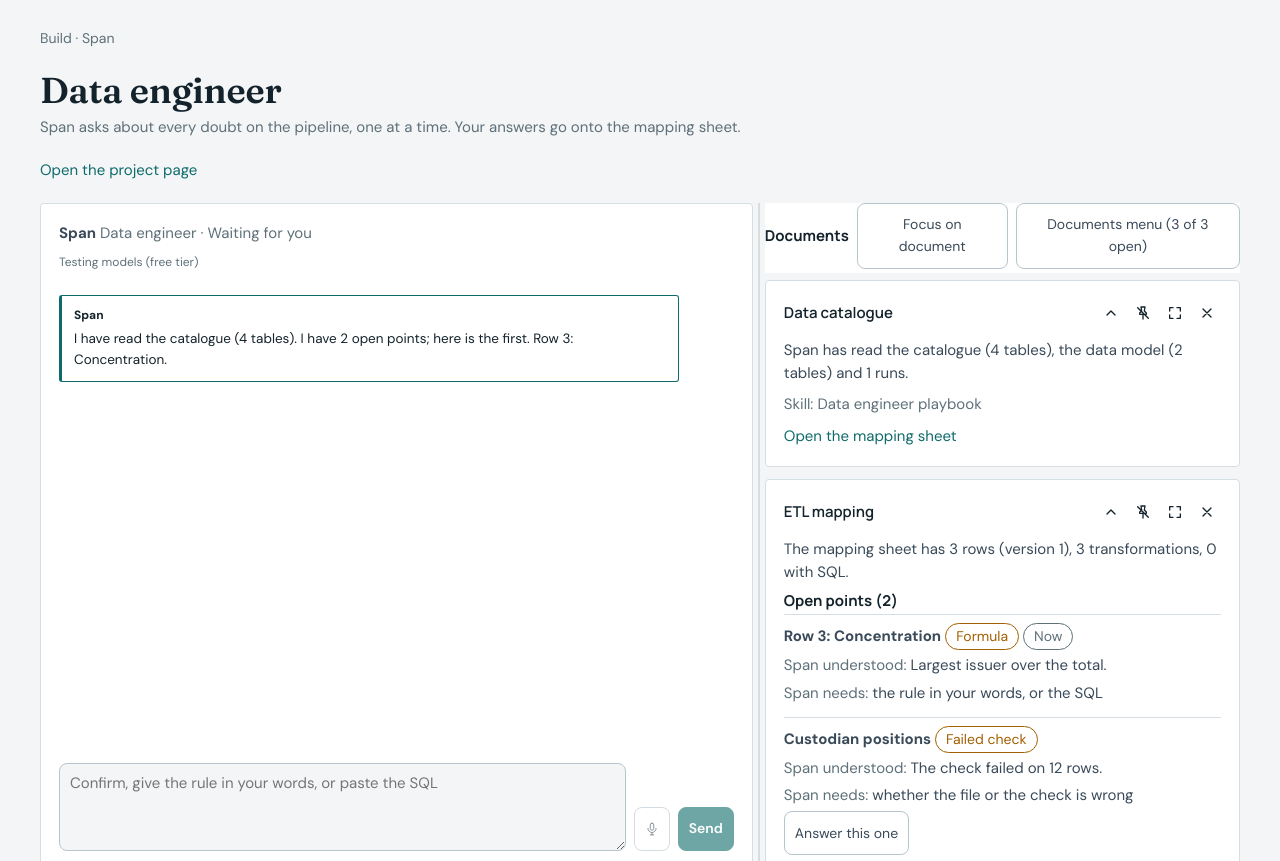
Scenario: Flow opens with the first point, lists the open points and walks to the next on an answer
Check: the text "I have 2 open points" is shown, box [74, 330, 573, 368]
Check: the element named "Open point: Concentration" shows "Largest issuer over the total.", box [910, 655, 1107, 675]
Type "Confirmed" into the text box named "Your message" at {"x": 342, "y": 807}, box [59, 763, 626, 851]
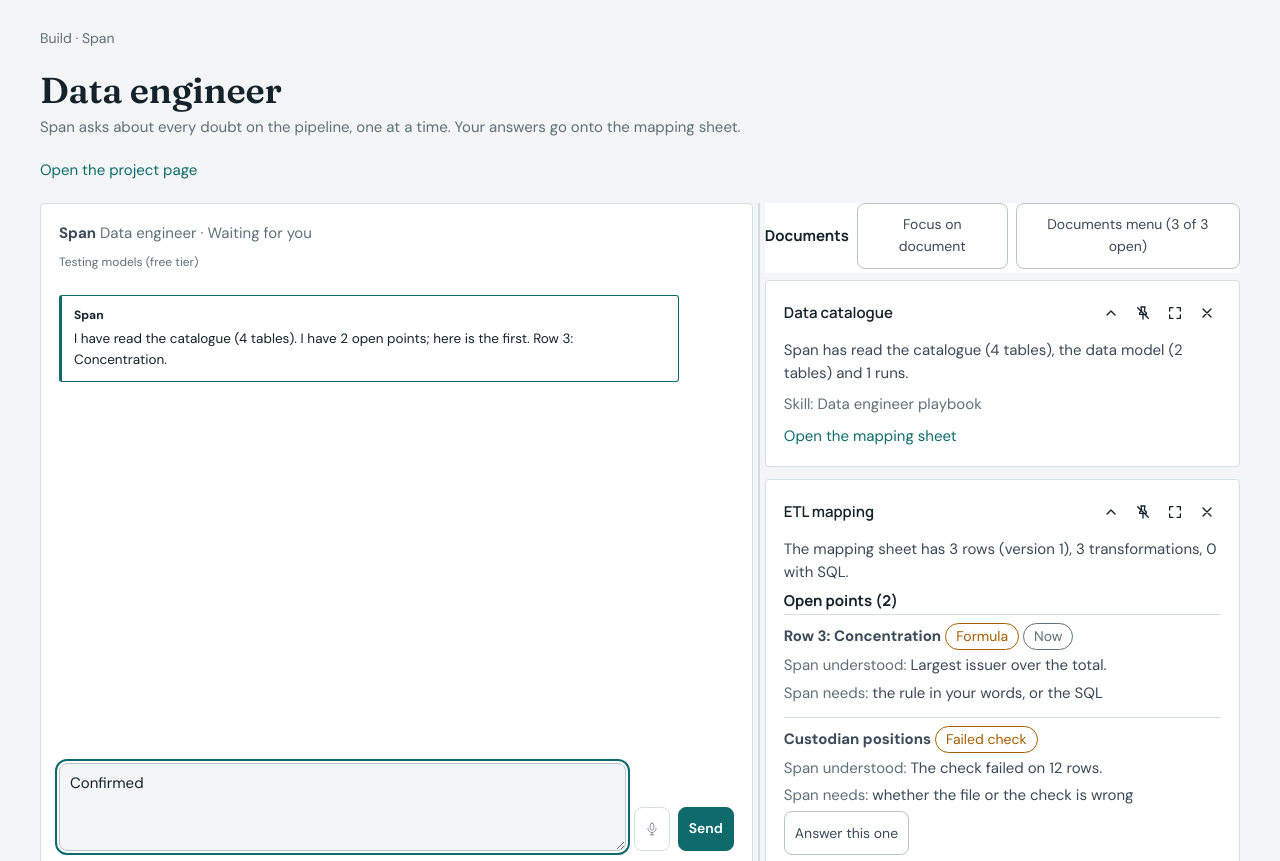
Click the button "Send" at {"x": 706, "y": 829}, box [678, 807, 734, 851]
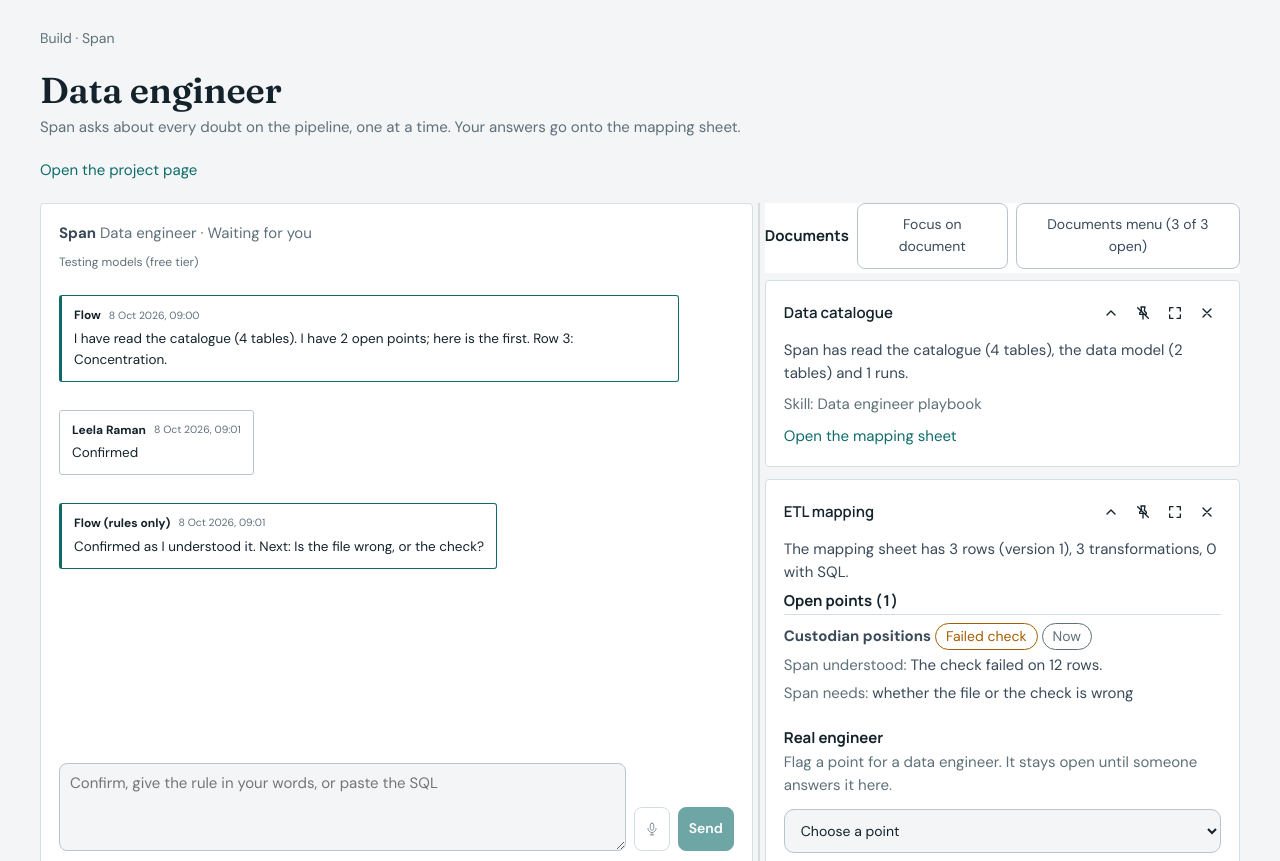
Check: the dropdown named "Point to flag" is shown, box [784, 809, 1221, 853]
Check: the text "Next: Is the file wrong" is shown, box [74, 538, 484, 555]
